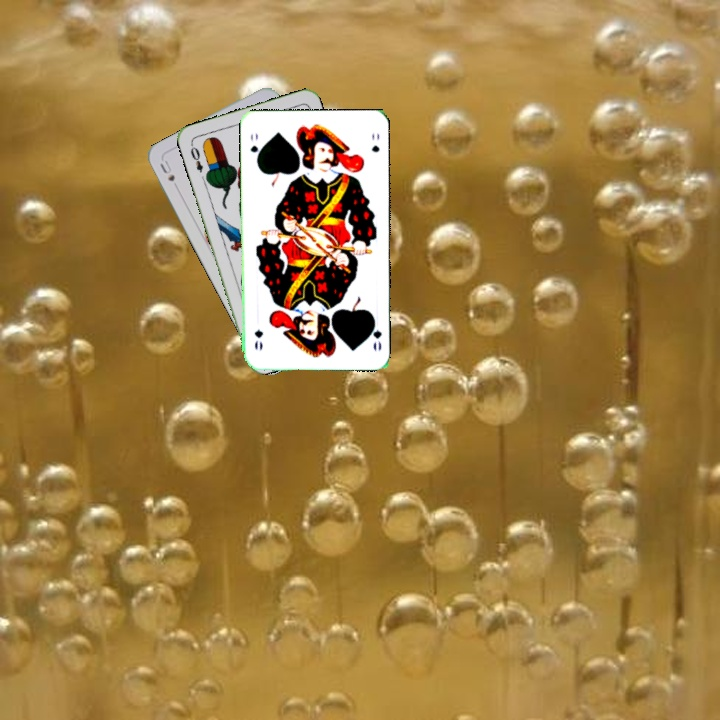EO: (186, 140, 206, 175)
GO: (365, 313, 384, 354), (246, 129, 263, 166)
SU: (156, 156, 177, 184)
